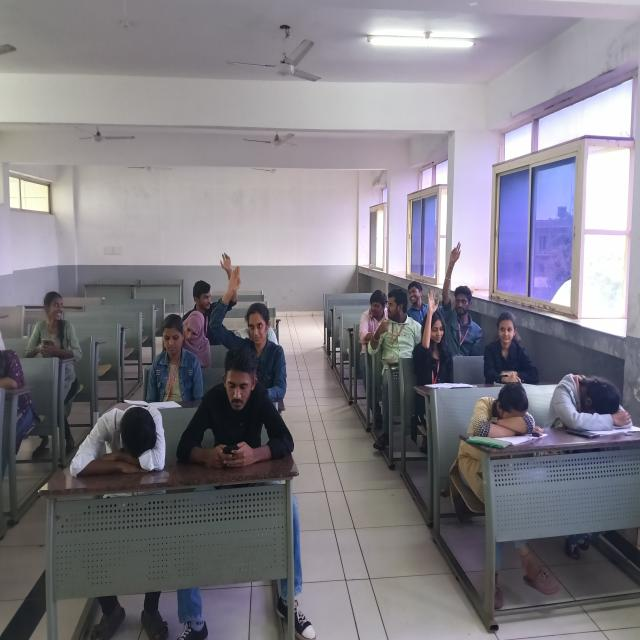Hand Rising: (218, 274, 284, 378), (434, 238, 492, 356), (170, 251, 235, 326), (415, 291, 457, 397)
Reading: (116, 324, 200, 408)
Sleeping: (68, 394, 174, 488), (552, 361, 640, 441), (460, 380, 548, 450)
Using Phone: (192, 348, 300, 474)
